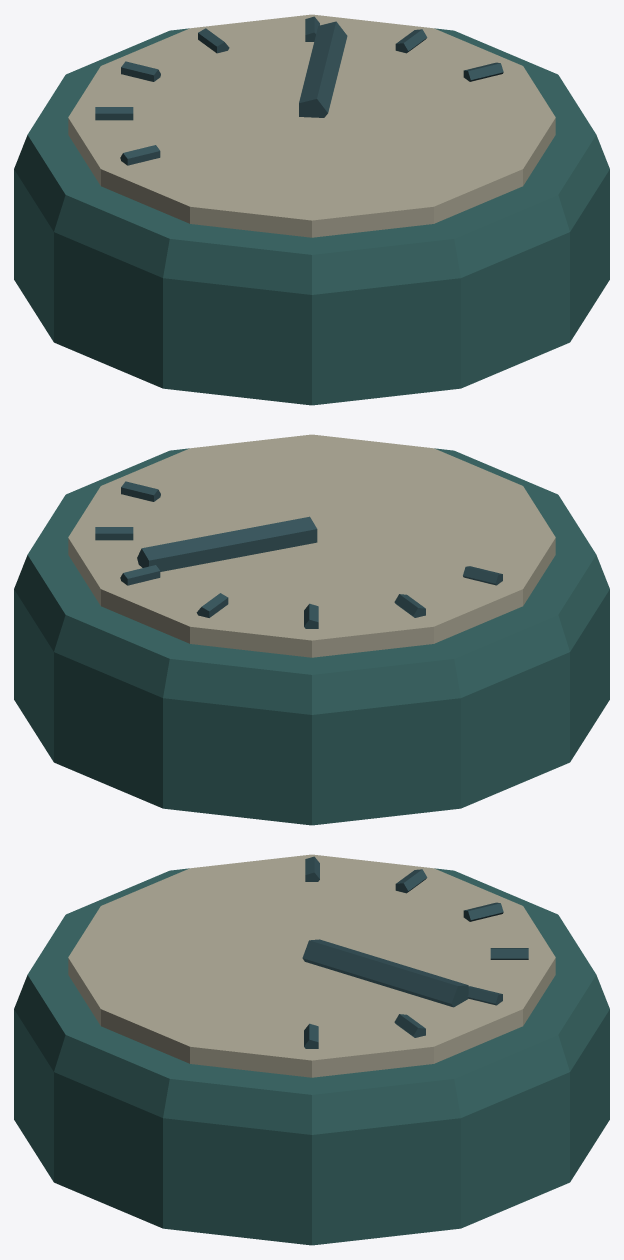
The model's file is pressure-gauge.glb.
3 views of the same model, one above another, from view 1: azimuth 30°, elevation 25°; view 2: azimuth 150°, elevation 25°; view 3: azimuth 270°, elevation 25° (orthographic).
Parts seen in each view (by area): view 1: pressure-gauge__body; view 2: pressure-gauge__body; view 3: pressure-gauge__body.
Boxes of the visible parts, x1,y1,x2,y2 form: pressure-gauge__body: [14, 14, 609, 405]; pressure-gauge__body: [14, 434, 609, 825]; pressure-gauge__body: [14, 854, 609, 1245].
Bounding box in the file's own units: 0.22 × 0.0737 × 0.22.
